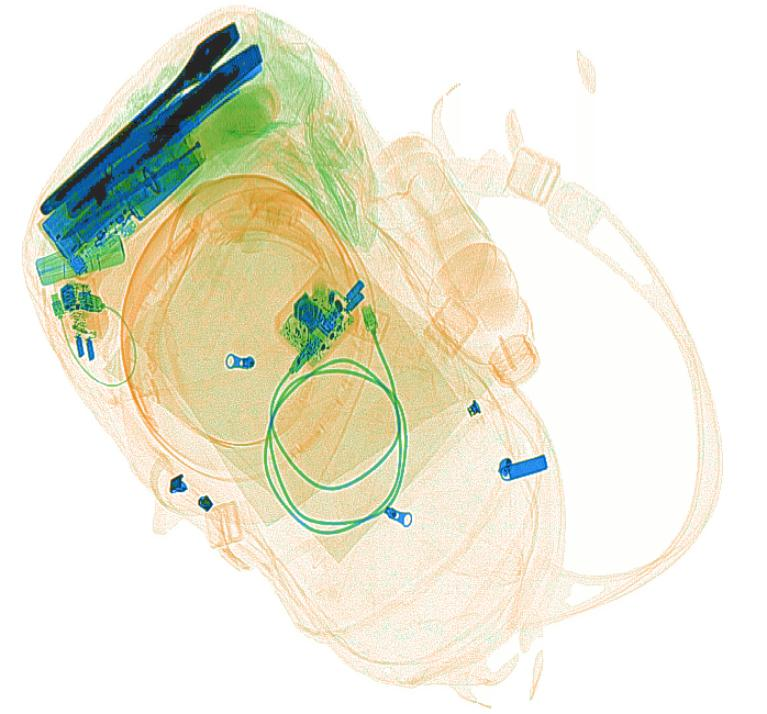battery: (39, 111, 208, 280)
